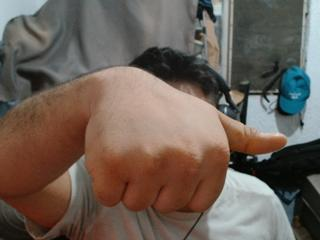Izquierda: (61, 53, 295, 222)
